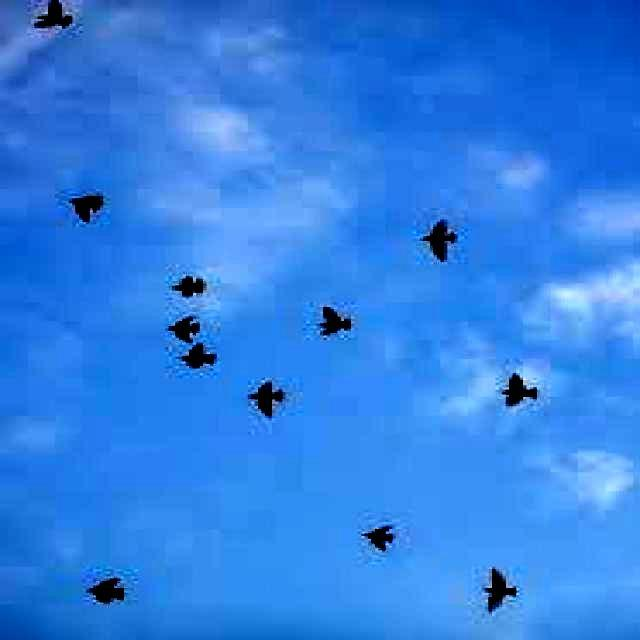bird: (20, 0, 114, 57), (412, 210, 466, 267), (353, 513, 411, 565), (170, 266, 229, 310), (246, 375, 298, 424), (150, 312, 222, 347), (476, 567, 530, 612), (63, 181, 112, 228), (488, 372, 546, 410), (89, 570, 140, 610), (312, 304, 360, 345), (177, 340, 219, 383)
